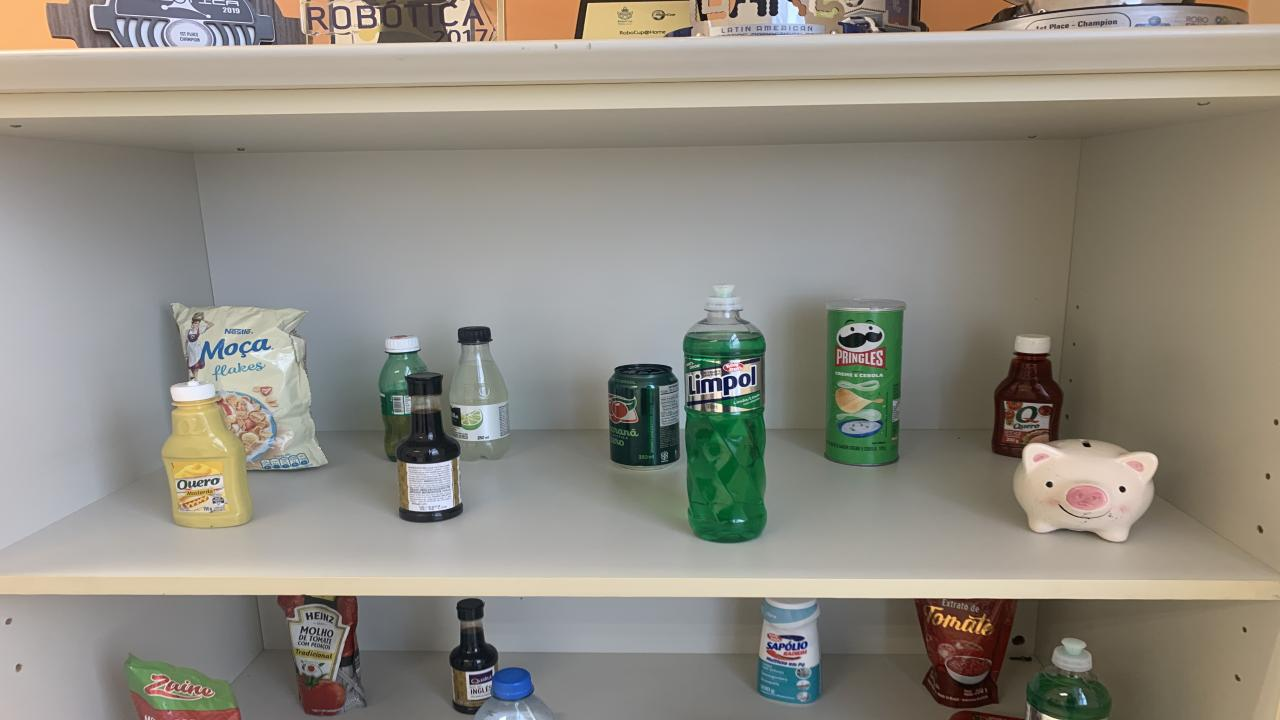Cleaner-Cleanup_Items: (758, 598, 822, 705)
Detergent-Cleanup_Items: (682, 285, 765, 542), (1028, 638, 1112, 720)
English_Sauce-Pantry_Items: (395, 371, 462, 523), (450, 598, 498, 714)
Flakes-Snacks: (172, 304, 328, 471)
Guarana-Drinks: (378, 336, 428, 461)
Guarana_Can-Drinks: (608, 364, 680, 471)
Ketchup-Pantry_Items: (992, 334, 1062, 458)
Mustard-Pantry_Items: (162, 379, 252, 527)
Pig_Safe-Miscellaneous: (1012, 439, 1158, 542)
Pringles-Snacks: (825, 300, 905, 465)
Soda-Drinks: (450, 326, 510, 461)
Tomato_Sauce-Pantry_Items: (915, 598, 1018, 709), (278, 594, 365, 716), (125, 654, 240, 720)
Water_Bottle-Drinks: (475, 668, 555, 720)
